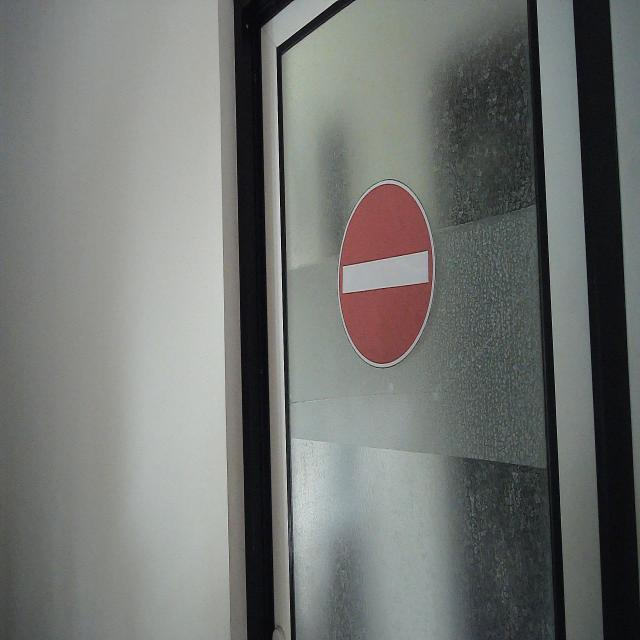no_entry: (336, 177, 437, 371)
